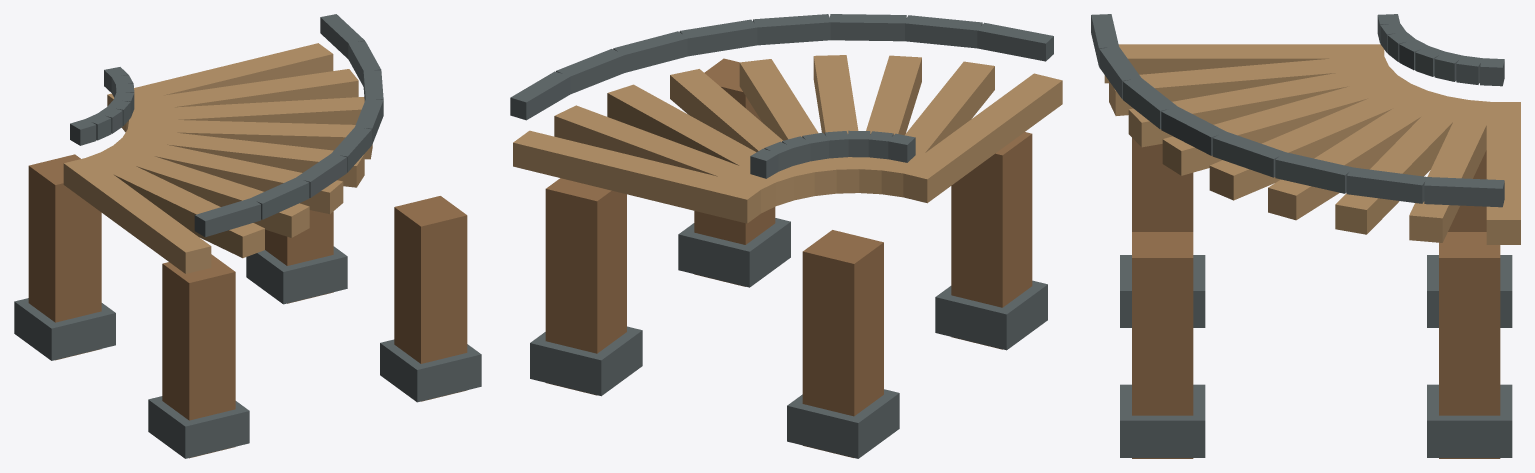
Rendered from vf_conveyor_corner.glb.
3 views of the same model, side by side, from view 1: azimuth 30°, elevation 25°; view 2: azimuth 150°, elevation 25°; view 3: azimuth 270°, elevation 25° (orthographic). The views are drawn at different scales.
Visible parts, largest first — view 1: Static; view 2: Static; view 3: Static.
Part boxes in pixels (x1,y1,x2,y2): Static: (14, 14, 481, 458); Static: (510, 14, 1062, 458); Static: (1091, 14, 1520, 458).
Bounding box in the file's own units: 1.26 × 0.93 × 1.26.
